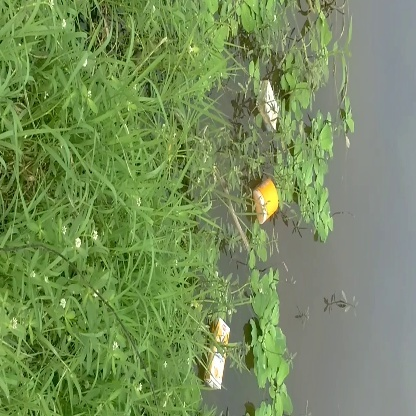bottle: (245, 178, 283, 227)
milk-box: (205, 311, 234, 394), (249, 70, 284, 132)
